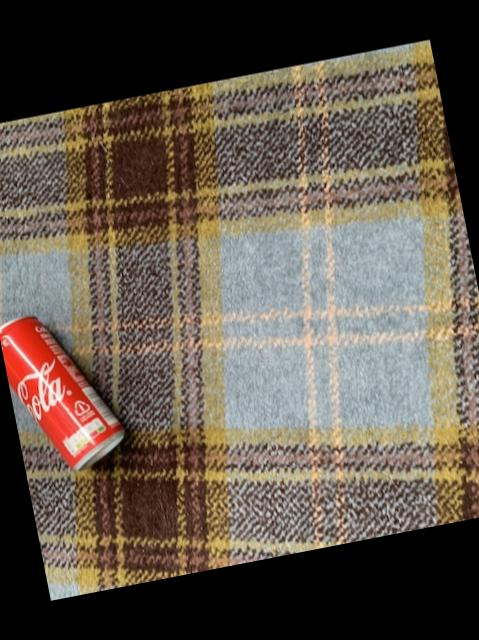metal: (0, 315, 124, 469)
